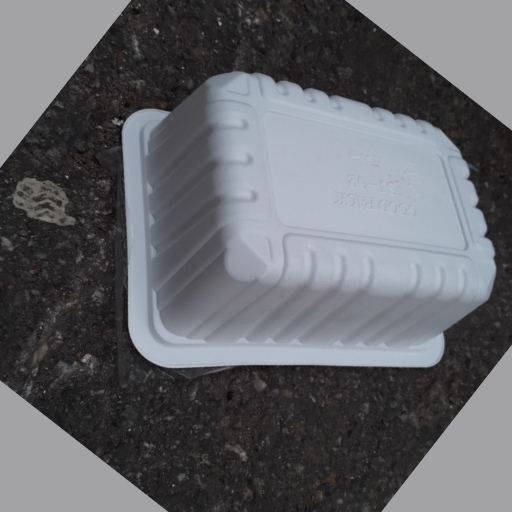Plastic_4: (116, 69, 497, 373)
